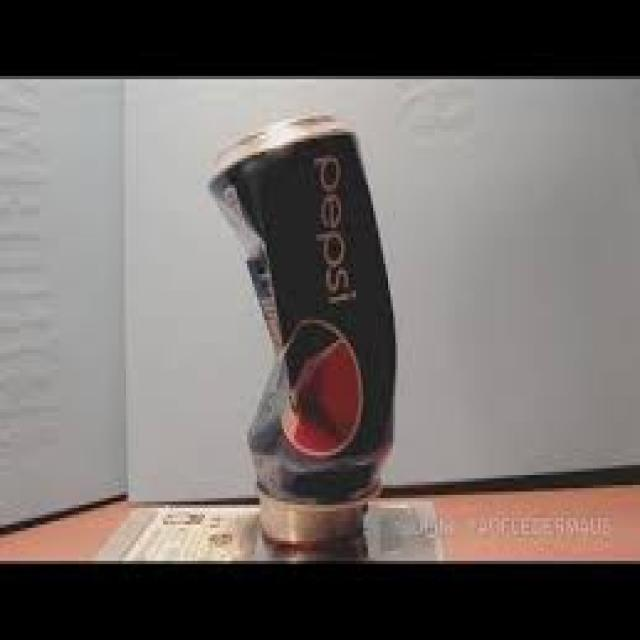metal: (203, 109, 395, 548)
